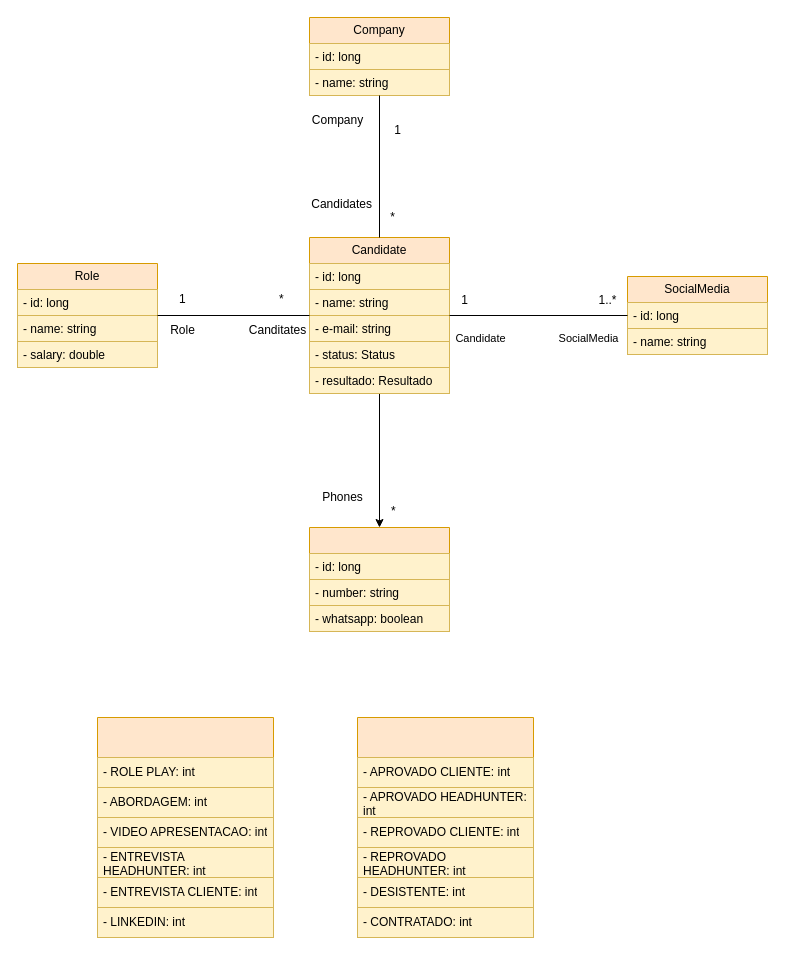
This 785x955 diagram has some shape labels left out. Each missing label, with the box of its shape:
<<enumeration>> Resultado: (356, 716, 534, 938)
<<enumeration>> Status: (96, 716, 274, 938)
Phone: (308, 526, 450, 632)
